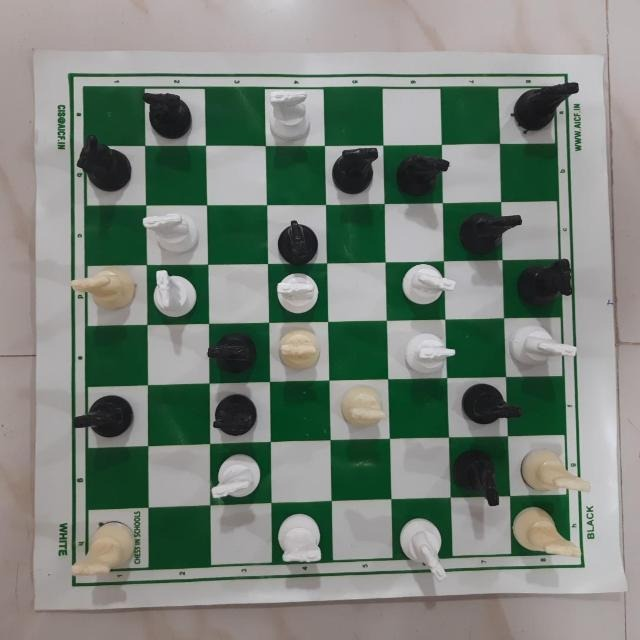black-knight: (455, 204, 523, 256), (507, 82, 579, 130), (73, 135, 132, 193), (74, 393, 138, 445), (137, 90, 199, 142), (271, 213, 331, 266), (451, 447, 503, 507), (332, 140, 380, 203), (392, 149, 450, 199), (519, 259, 574, 308), (203, 328, 262, 372), (461, 386, 525, 426), (206, 387, 256, 434)
white-knight: (69, 515, 136, 579), (514, 501, 586, 559), (67, 260, 139, 314), (400, 512, 452, 582), (520, 445, 588, 495), (509, 320, 579, 367), (207, 449, 263, 506), (273, 510, 327, 565), (144, 206, 198, 260), (399, 331, 459, 378), (403, 265, 459, 312), (267, 88, 315, 142), (148, 267, 198, 318), (274, 326, 321, 376), (338, 386, 388, 428), (274, 267, 318, 314)
